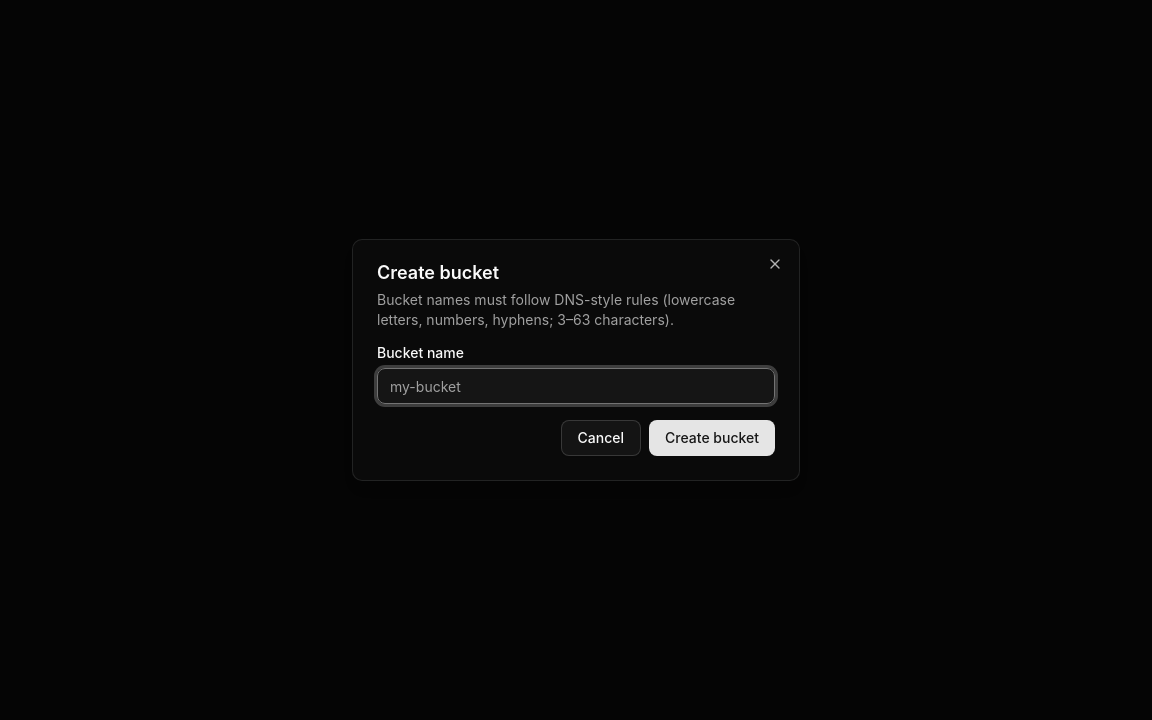
CreateBucketDialog › maps 409 BucketAlreadyExists to a field error without toast
In the field labelled "Bucket name": point(576, 386) left=377, top=368, right=775, bottom=404, type "dup-bucket"
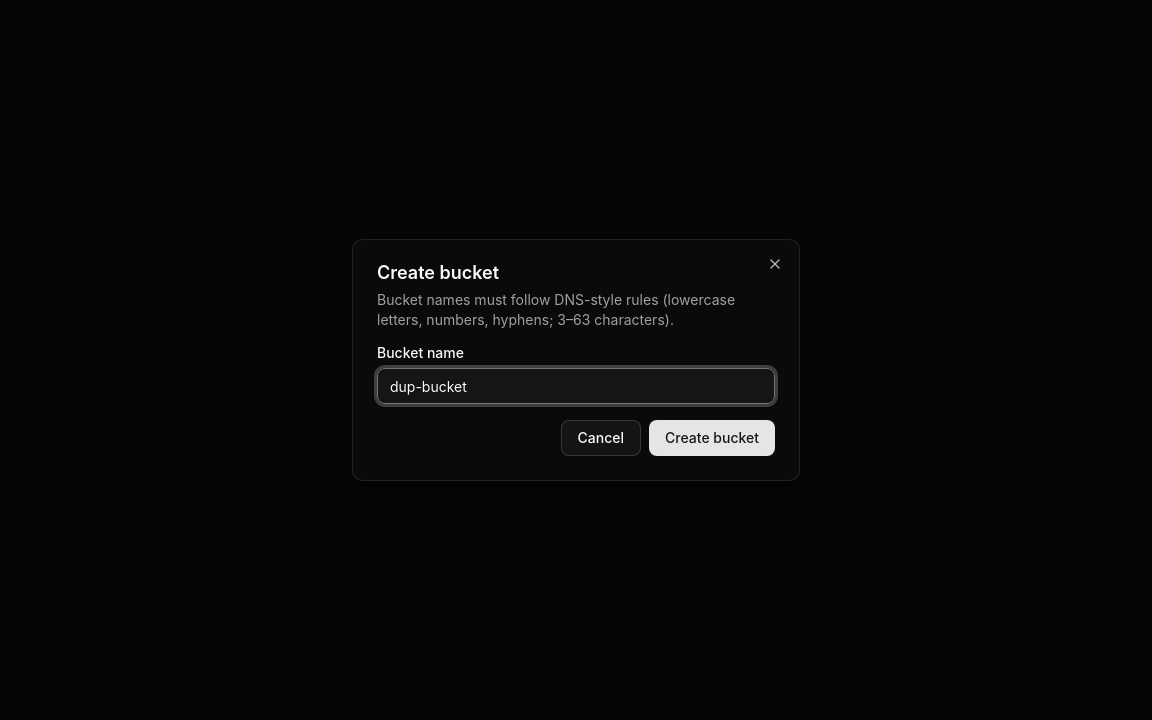
Click the button "Create bucket": point(712, 438) left=649, top=420, right=775, bottom=456
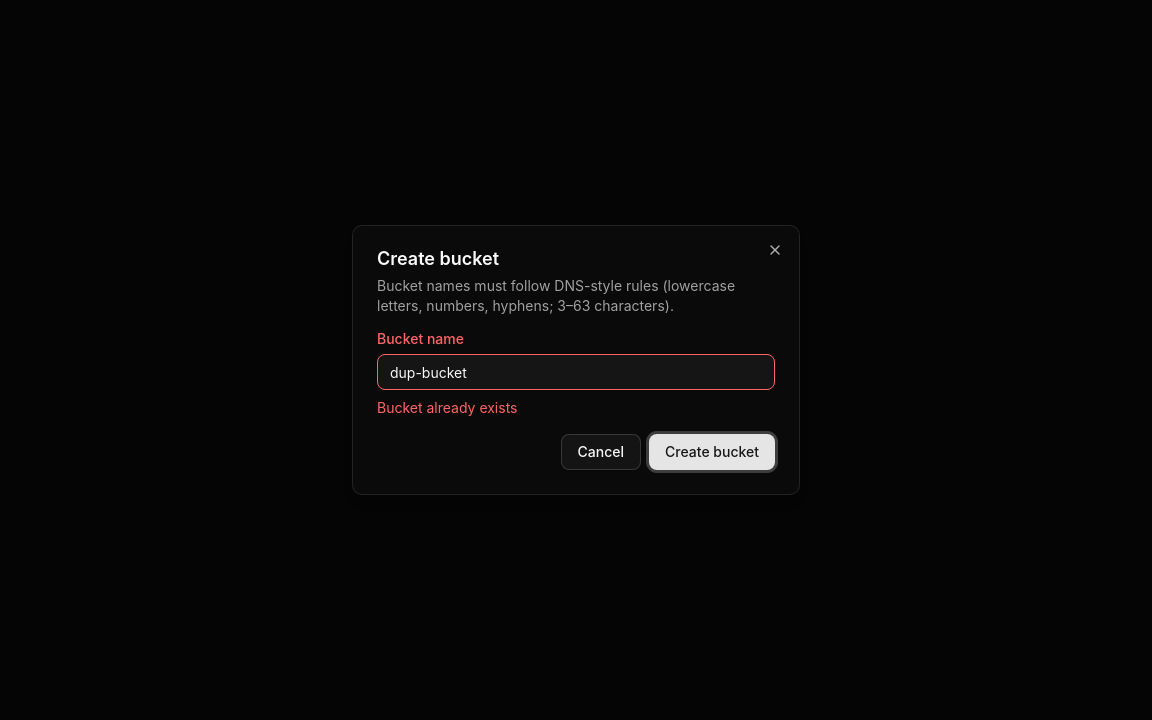
expect the text "Bucket already exists" is shown: met, box left=377, top=399, right=518, bottom=416
